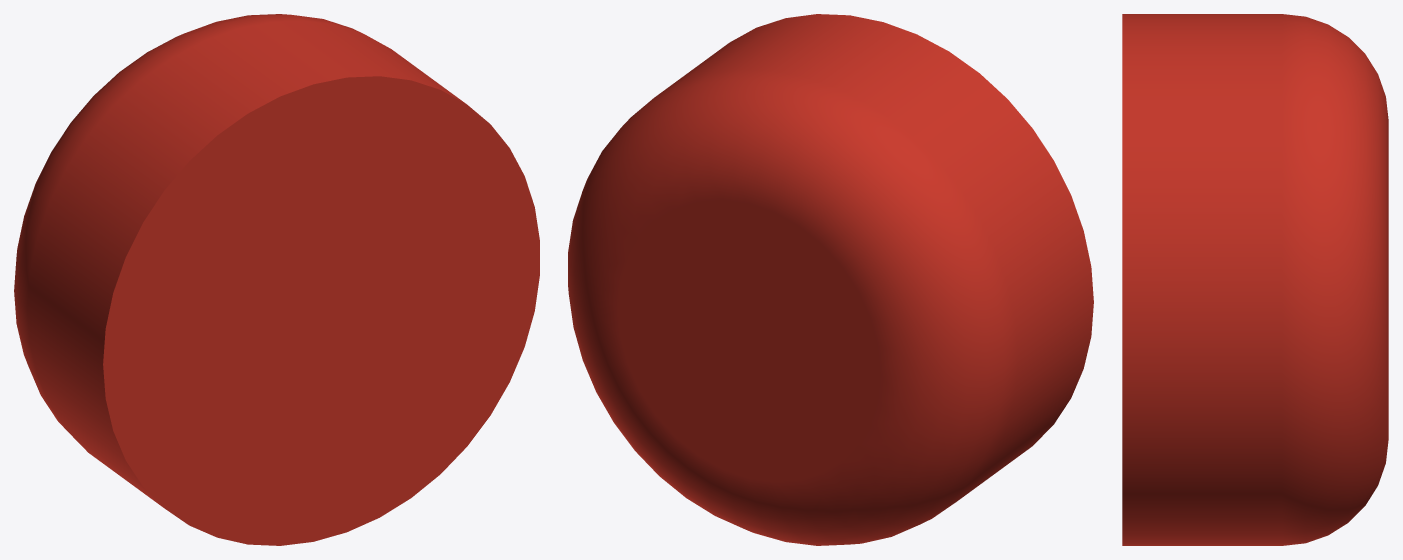
File: capsule_cap.obj
3 renders of one model, left to right at view 1: azimuth 30°, elevation 25°; view 2: azimuth 150°, elevation 25°; view 3: azimuth 270°, elevation 25°, orthographic. The views are drawn at different scales.
Parts seen in each view (by area): view 1: Body1; view 2: Body1; view 3: Body1.
Boxes of the visible parts, x1,y1,x2,y2 form: Body1: (14,14,539,545); Body1: (568,14,1093,545); Body1: (1122,14,1388,545).
Bounding box in the file's own units: 3 × 3 × 1.5.
